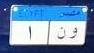1: (27, 25, 34, 40)
noon: (57, 26, 66, 41)
waw: (68, 26, 78, 41)
